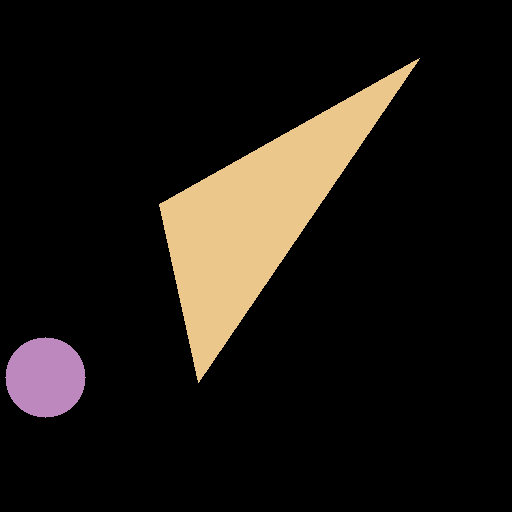circle: (5, 337, 85, 417)
triangle: (159, 58, 419, 382)
